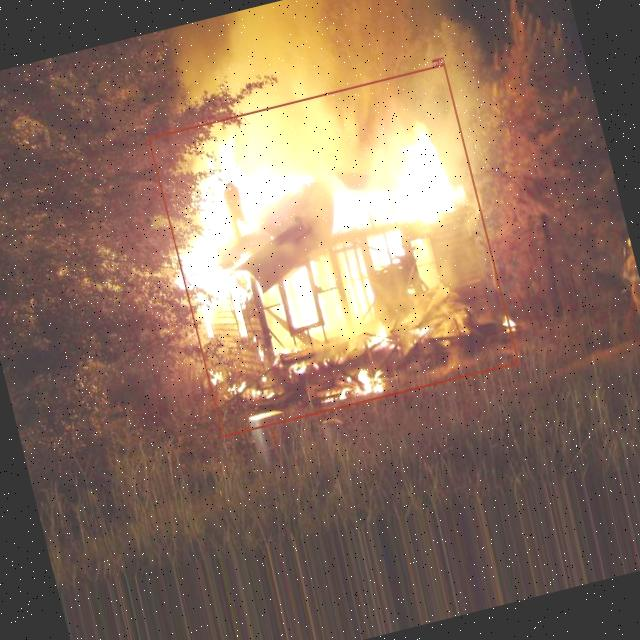fire: (148, 62, 520, 436)
